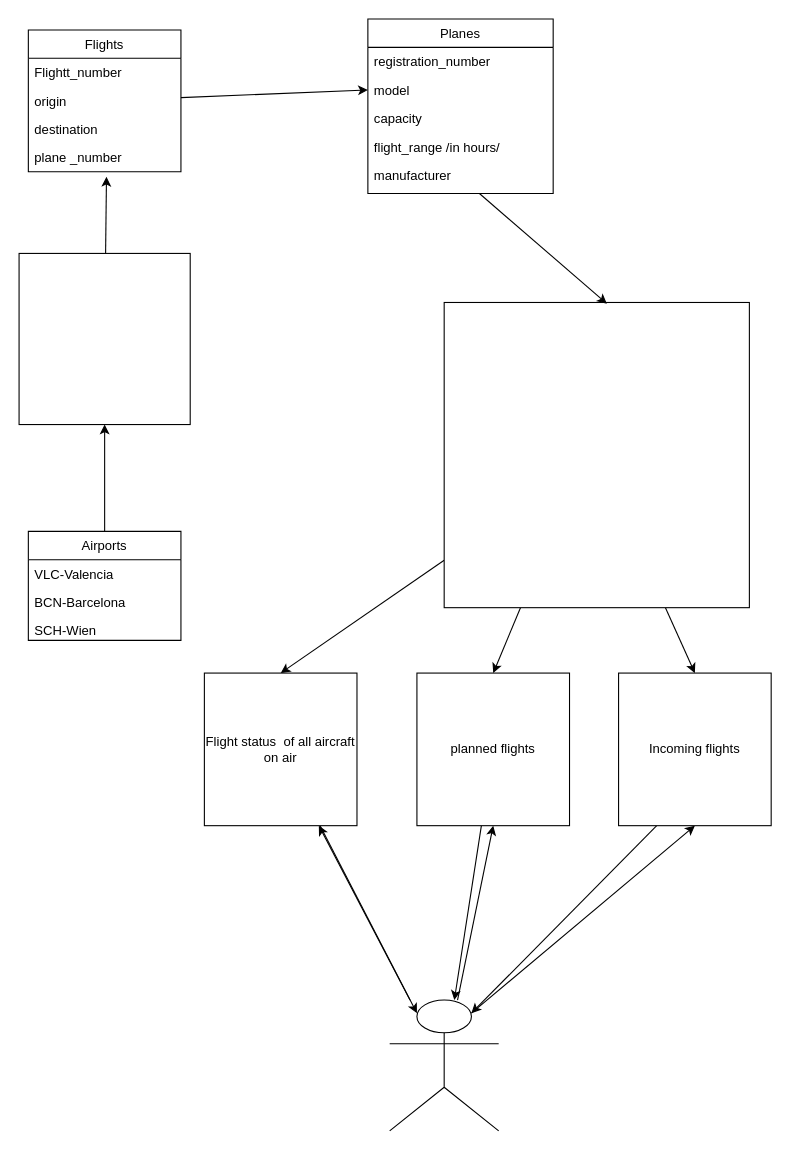
Some shapes in this 790 by 1173 pixel diagram are drawn without their labels. Here are the shapes that lost their labels. From the top down, the centre of each, then its label:
the point at 104,338: Incoming flight
the point at 596,454: Airport Database airport name
the point at 444,1065: Actor
